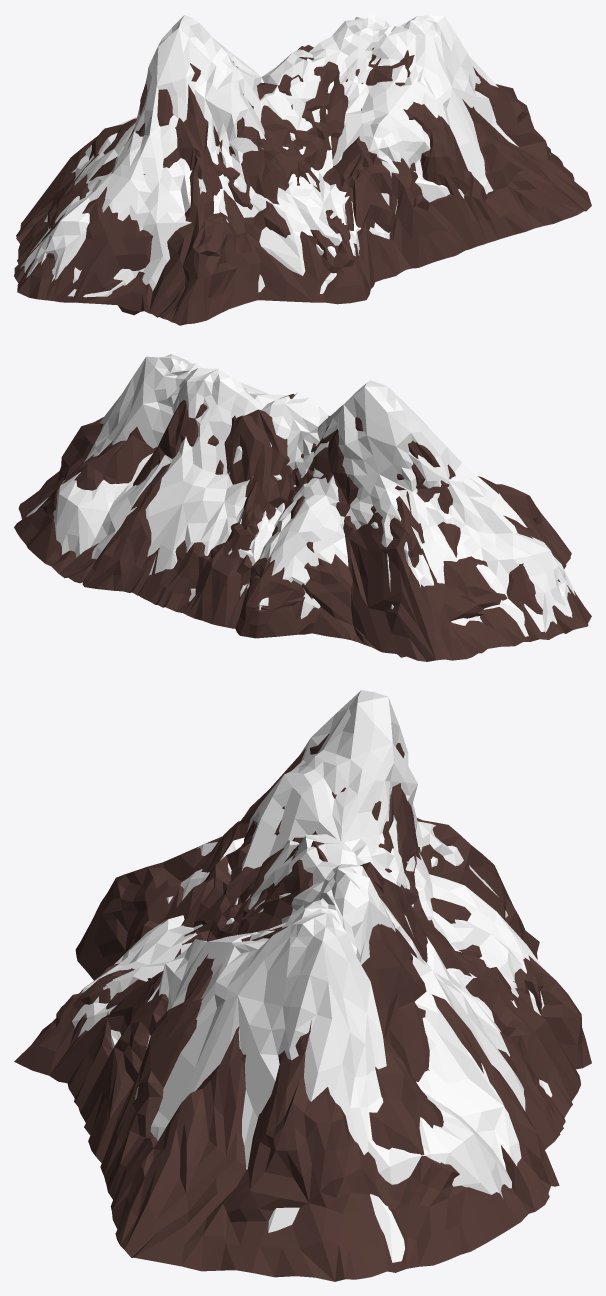
File: snow_mountain_003.fbx
3 renders of one model, top to bottom at view 1: azimuth 30°, elevation 25°; view 2: azimuth 150°, elevation 25°; view 3: azimuth 270°, elevation 25°, orthographic. The views are drawn at different scales.
Visible parts, largest first — view 1: snow_mountain_003; view 2: snow_mountain_003; view 3: snow_mountain_003.
Part boxes in pixels (<box>): snow_mountain_003: <box>14,14,591,325</box>; snow_mountain_003: <box>14,354,591,661</box>; snow_mountain_003: <box>14,690,591,1281</box>.
Bounding box in the file's own units: 14064 × 8426 × 5367.
